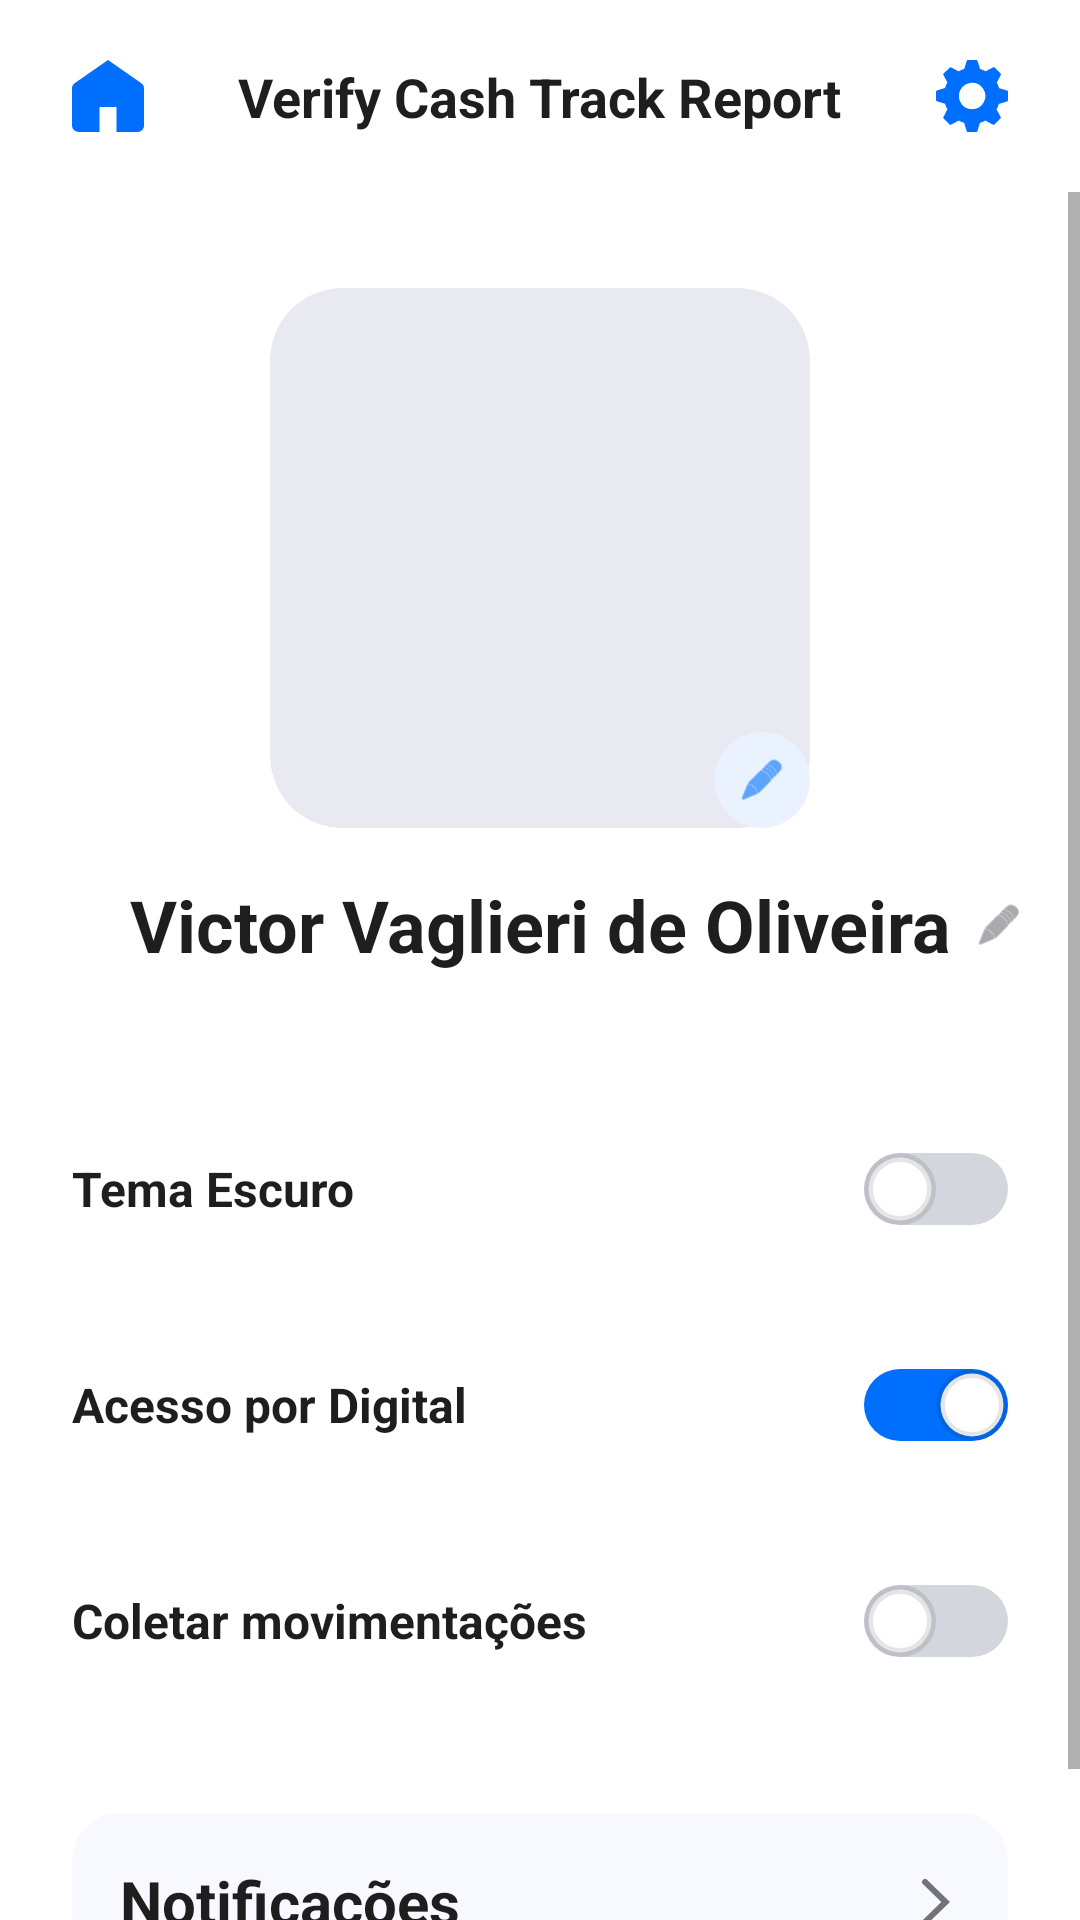

Where to tap for icons on this 1080w x 1920h app screen, as [x,y]:
Configurações: [972,96]
edit: [762,780], [999,924]
Home: [108,96]
